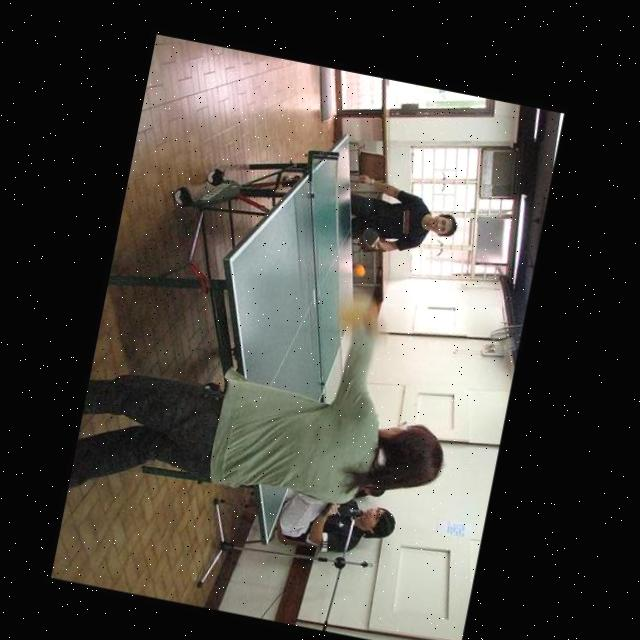ping-pong-ball: (352, 264, 366, 277)
